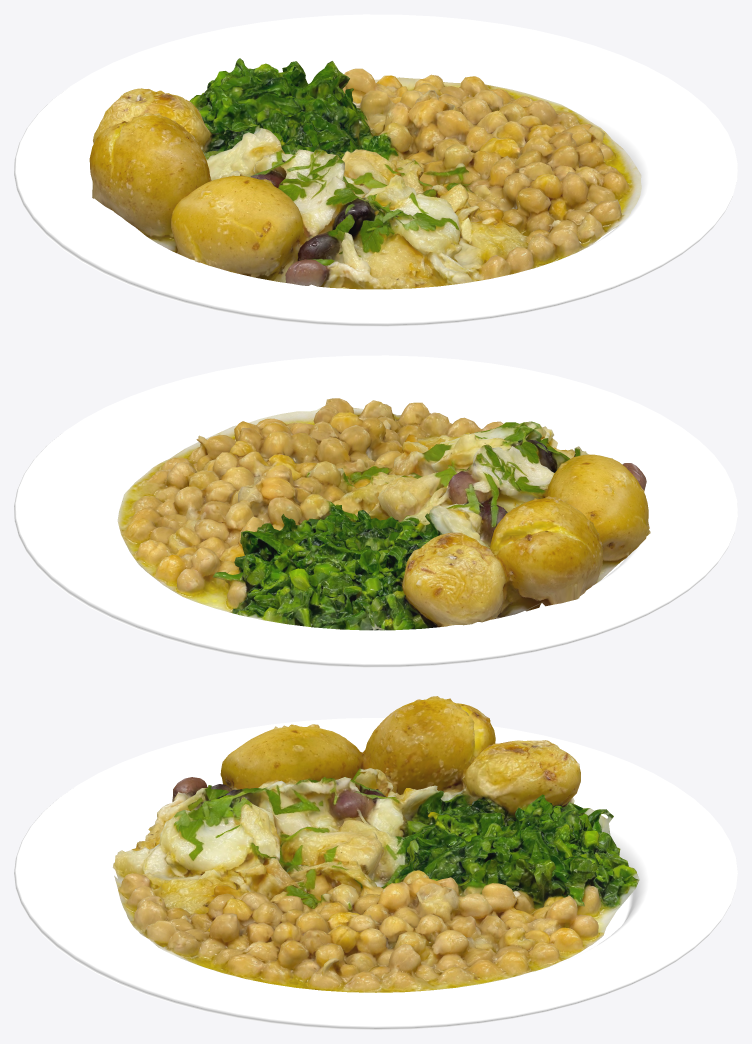
File: BacalhauAlhada.glb
The picture shows the model from 3 angles, top to bottom: view 1: azimuth 30°, elevation 25°; view 2: azimuth 150°, elevation 25°; view 3: azimuth 270°, elevation 25°; orthographic projection.
Visible parts, largest first — view 1: Mesh_0.001, Circle; view 2: Mesh_0.001, Circle; view 3: Mesh_0.001, Circle.
Boxes of the visible parts, x1,y1,x2,y2 form: Mesh_0.001: [89, 58, 641, 289]; Circle: [14, 14, 737, 326]; Mesh_0.001: [117, 398, 650, 630]; Circle: [14, 355, 737, 667]; Mesh_0.001: [112, 696, 639, 992]; Circle: [14, 718, 737, 1029].
Bounding box in the file's own units: 0.2886 × 0.0474 × 0.2886.
Materials: 2 (1 with a texture image).
